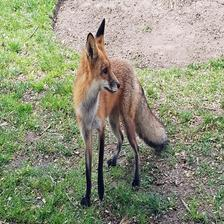fox: (68, 14, 171, 210)
